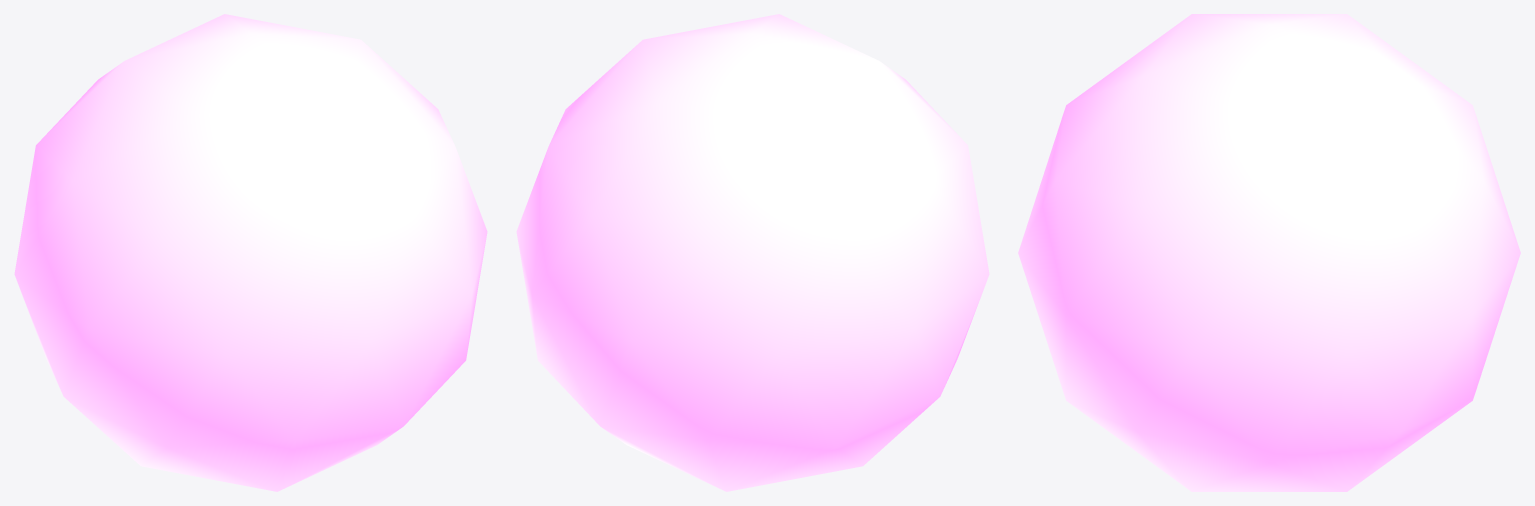
Rendered from ospite_orb.gltf.
The picture shows the model from 3 angles, left to right: view 1: azimuth 30°, elevation 25°; view 2: azimuth 150°, elevation 25°; view 3: azimuth 270°, elevation 25°; orthographic projection. The views are drawn at different scales.
Parts seen in each view (by area): view 1: ospite_orb; view 2: ospite_orb; view 3: ospite_orb.
Boxes of the visible parts, bbox=[...] form: ospite_orb: bbox=[14, 14, 487, 491]; ospite_orb: bbox=[516, 14, 989, 491]; ospite_orb: bbox=[1018, 14, 1520, 491].
Size of the model in its own units: 0.5706 by 0.6 by 0.6.
